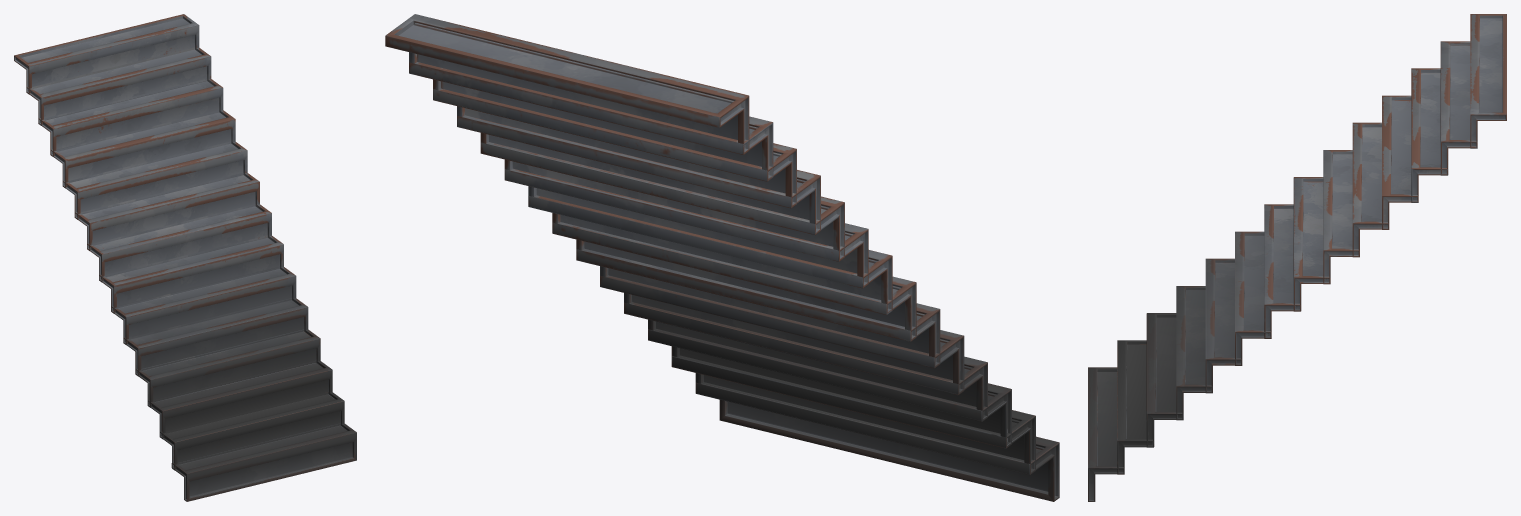
File: Factory_Stairs.fbx
3 renders of one model, left to right at view 1: azimuth 30°, elevation 25°; view 2: azimuth 150°, elevation 25°; view 3: azimuth 270°, elevation 25°, orthographic. The views are drawn at different scales.
Visible parts, largest first — view 1: Plane.022; view 2: Plane.022; view 3: Plane.022.
Boxes of the visible parts, x1,y1,x2,y2 form: Plane.022: (14, 14, 356, 501); Plane.022: (385, 14, 1059, 501); Plane.022: (1088, 14, 1506, 501).
Size of the model in its own units: 306 by 550 by 539.
Materials: 1 (1 with a texture image).
